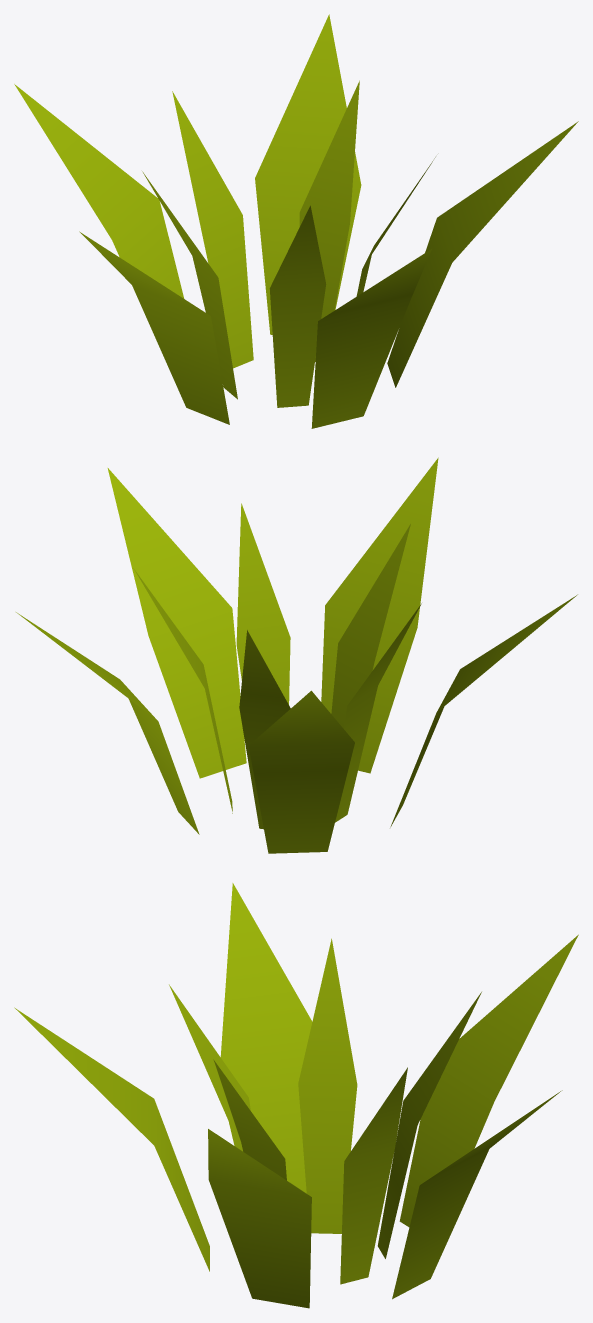
File: Grass.glb
The picture shows the model from 3 angles, top to bottom: view 1: azimuth 30°, elevation 25°; view 2: azimuth 150°, elevation 25°; view 3: azimuth 270°, elevation 25°; orthographic projection. The views are drawn at different scales.
Parts seen in each view (by area): view 1: Grass.001; view 2: Grass.001; view 3: Grass.001.
Part boxes in pixels (box(x1,y1,x2,y2)): Grass.001: box(14, 14, 578, 428); Grass.001: box(16, 457, 577, 853); Grass.001: box(14, 883, 578, 1308).
Bounding box in the file's own units: 1.71 × 0.8148 × 1.66.
